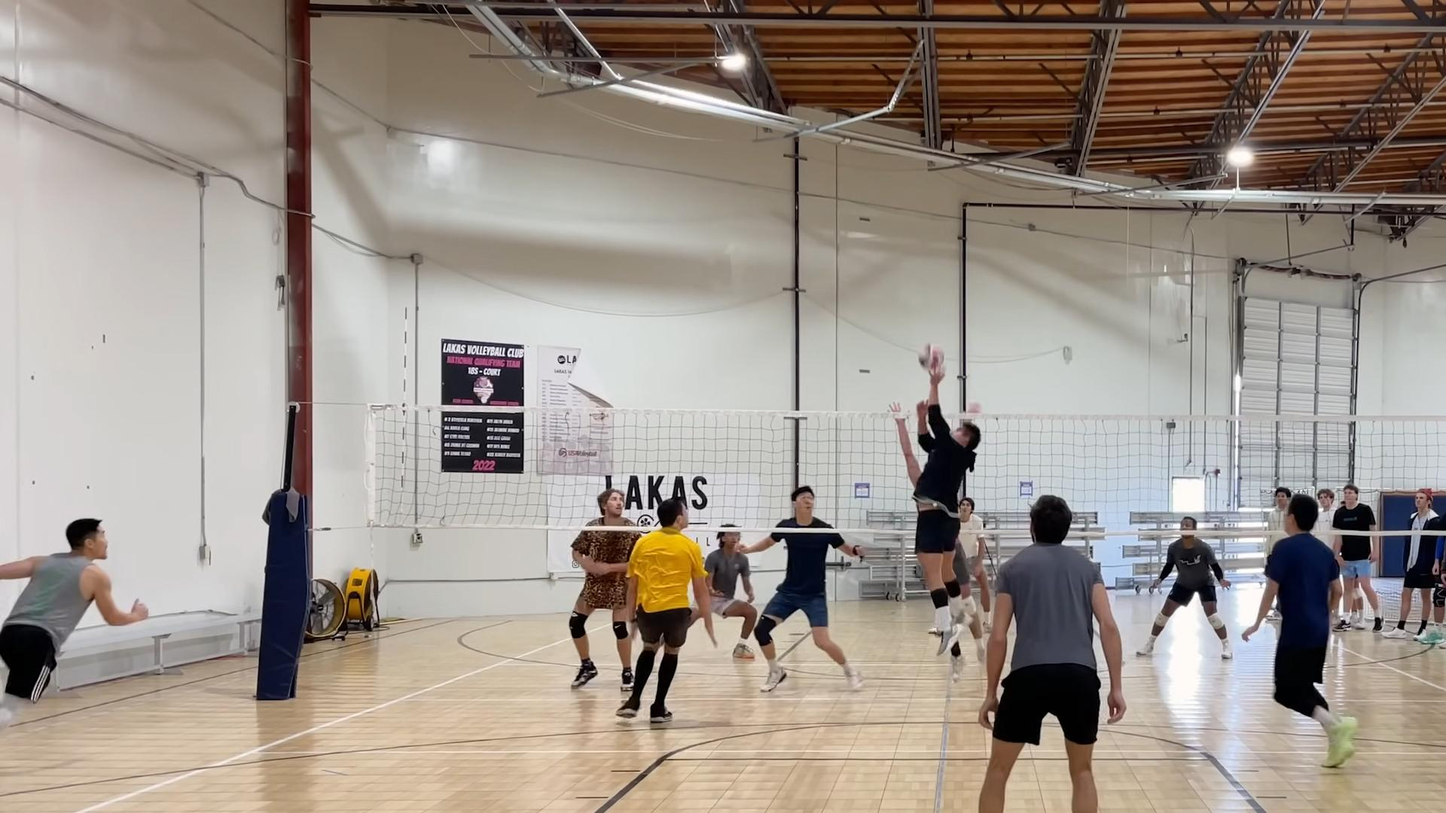alzata: (902, 338, 983, 655)
